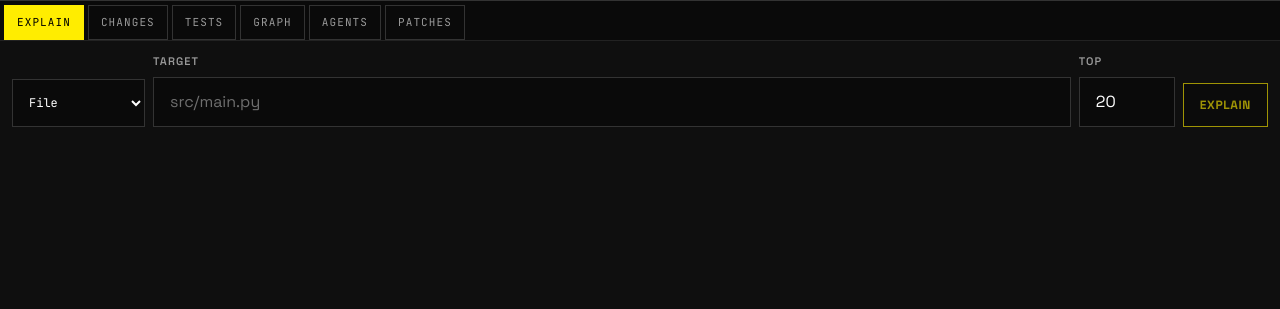
Test case: DeveloperPanel (developer intelligence) › renders developer tabs, a11y semantics and the honest capability note
The image size is (1280, 309).
Expected: the element named "developer intelligence" is shown, x1=4 y1=5 x2=465 y2=40
Click the tab "Patches" at coordinates (425, 22), box x1=385 y1=5 x2=465 y2=40
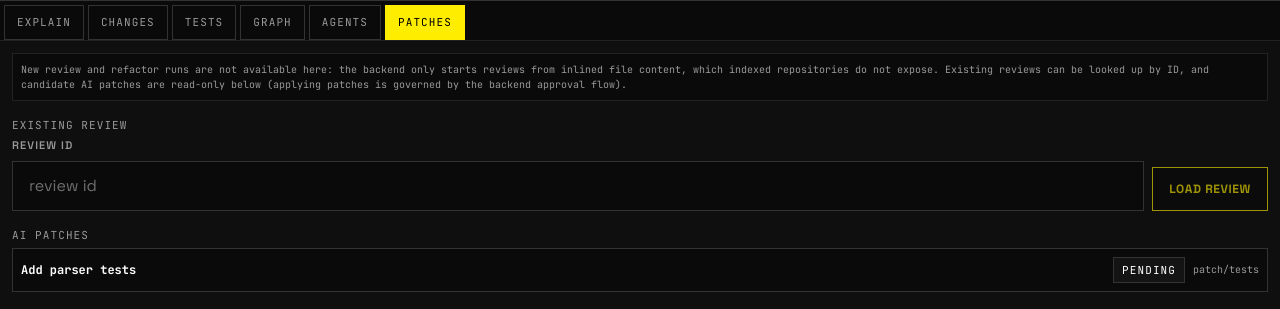
Now the text "backend only starts reviews from inlined file content" is shown, box x1=21 y1=62 x2=1209 y2=90
